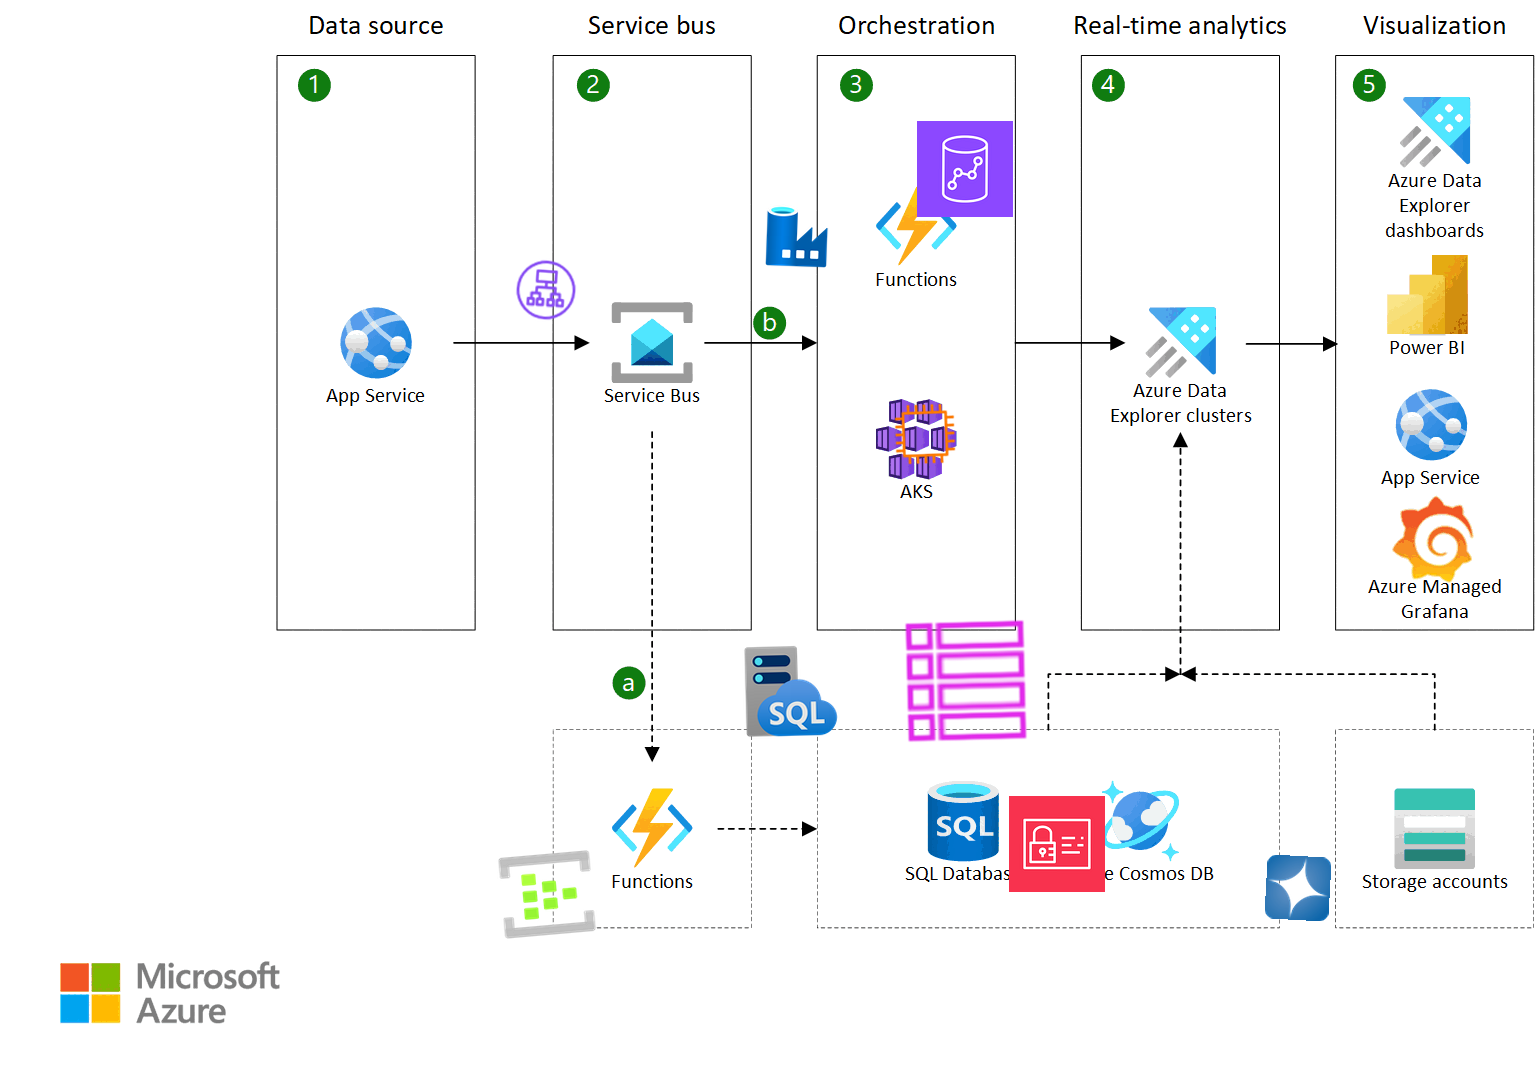aws_amazon_redshift: (916, 120, 1014, 218)
aws_dynamodb_table: (900, 615, 1032, 747)
aws_ec2_instance: (891, 400, 958, 468)
aws_elastic_load_balancing_application_load_balancer: (512, 256, 580, 323)
aws_identity_and_access_management: (1008, 795, 1106, 893)
azure_data_factories: (763, 202, 831, 270)
azure_event_hubs: (494, 842, 599, 946)
azure_openai: (1264, 854, 1332, 922)
azure_sql_managed_instance: (741, 641, 841, 741)
